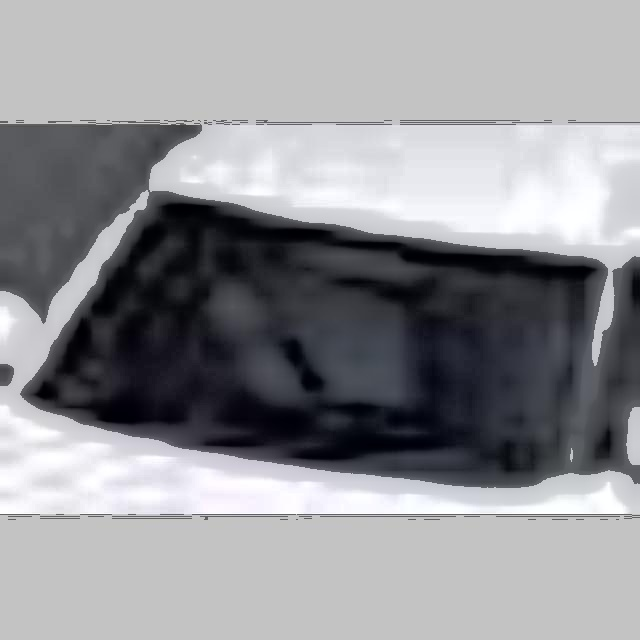pakai: (151, 250, 414, 401)
